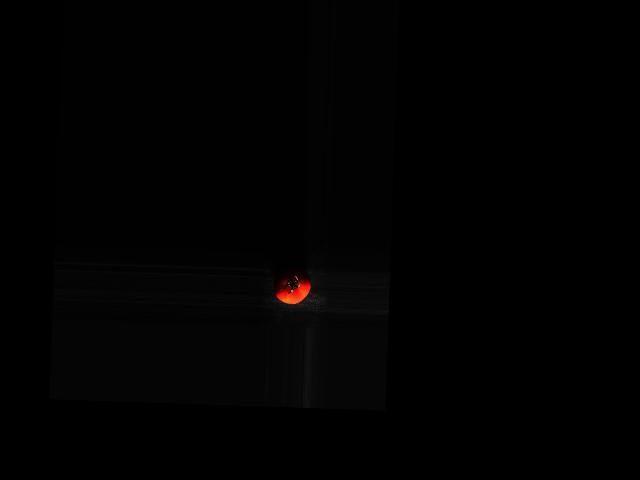tomato: (273, 266, 311, 304)
